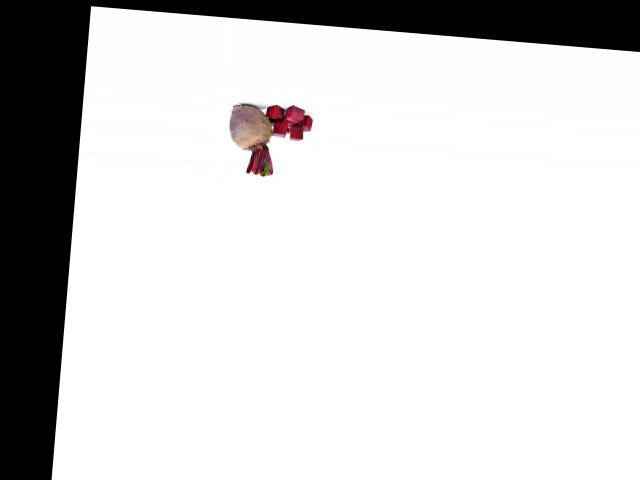beet: (226, 102, 279, 176)
